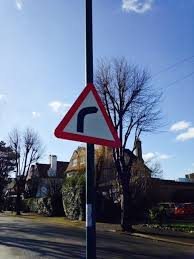Bend_to_right: (50, 82, 124, 150)
